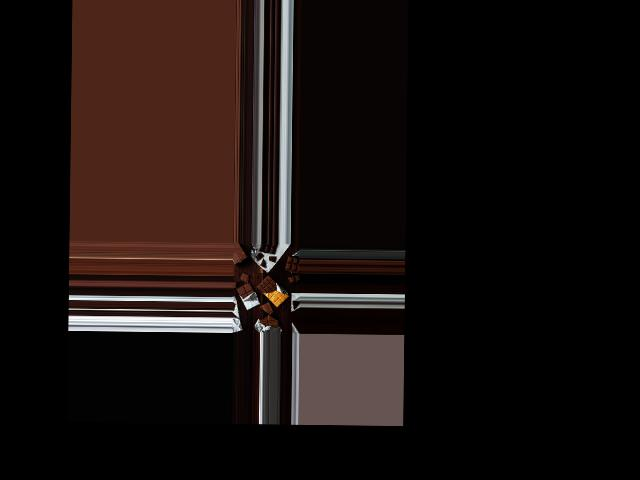chocolate: (234, 282, 261, 308)
